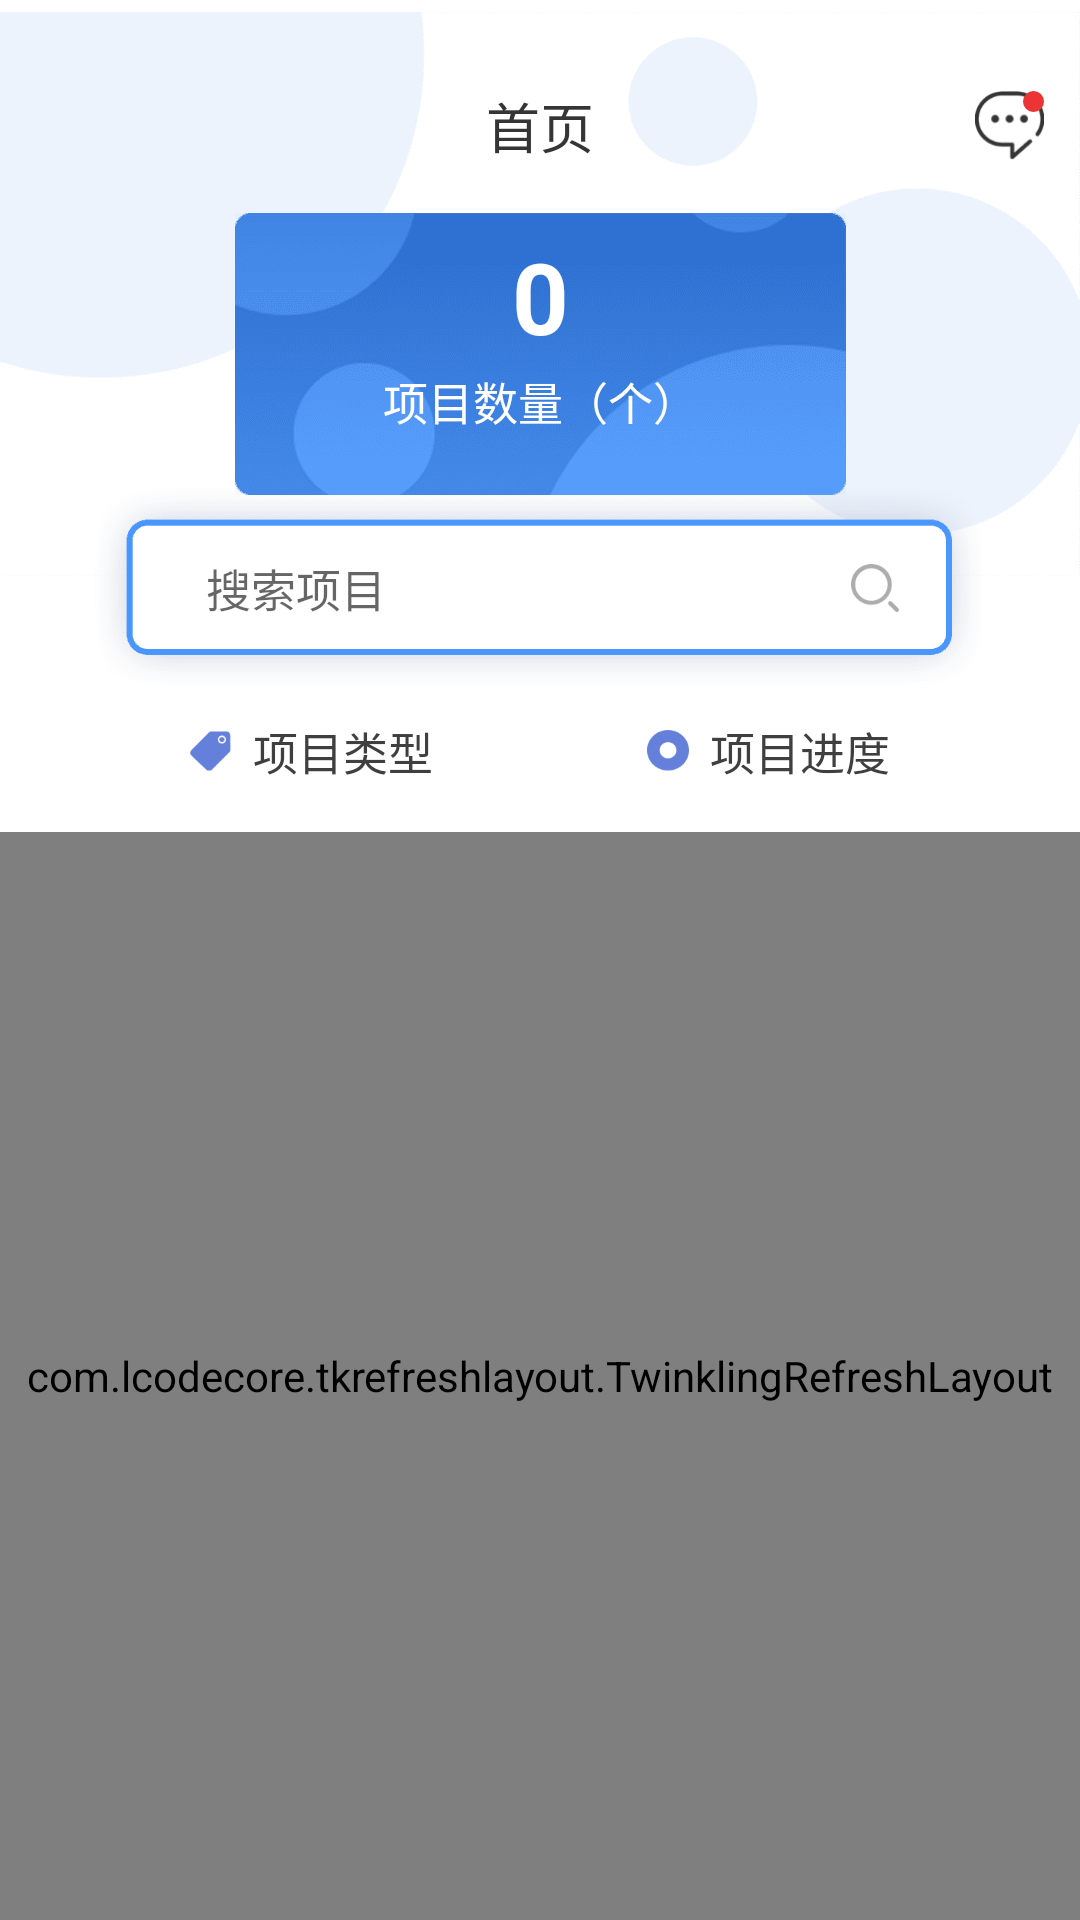

Where to tap for icons on this 1080px×1920px app screen, as (x=x, y=y):
search: (x=875, y=588)
